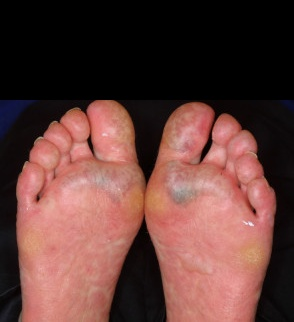SJS-TEN: (141, 94, 290, 322), (11, 96, 148, 322)
